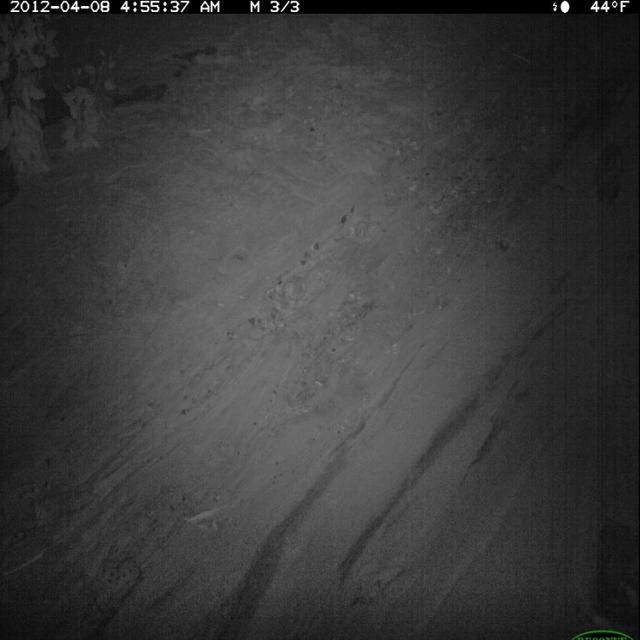opossum: (590, 143, 629, 222)
